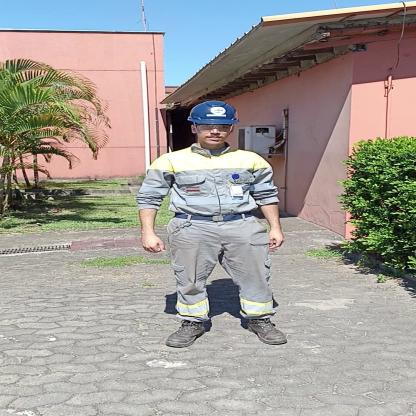Capacete: (186, 99, 238, 123)
